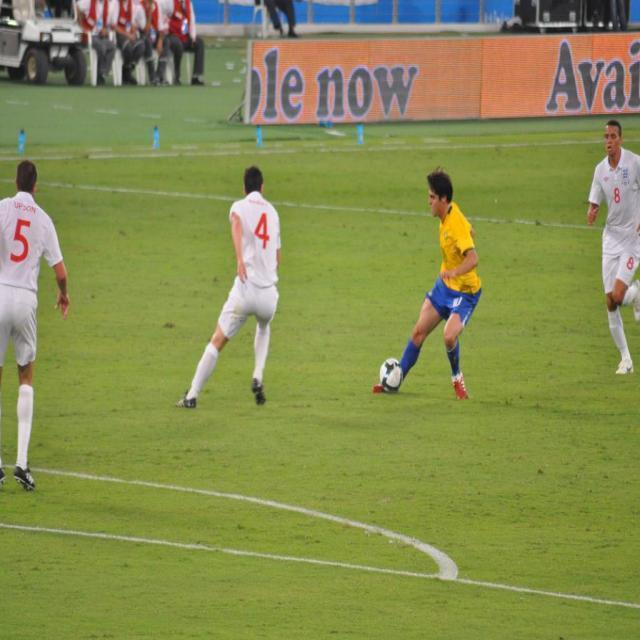ball: (380, 355, 403, 393)
